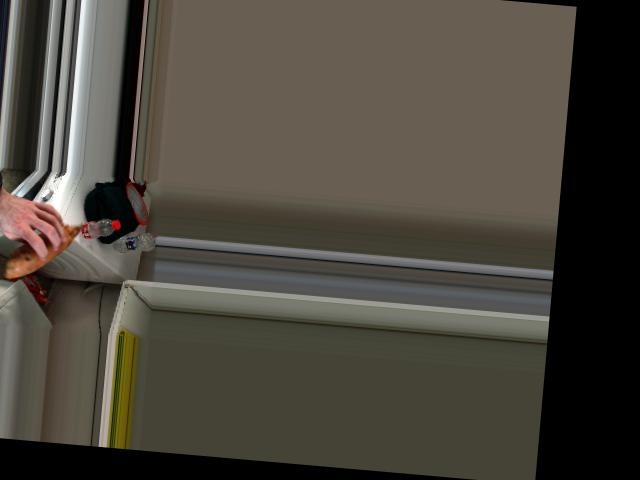sweet_potato: (13, 204, 79, 281)
